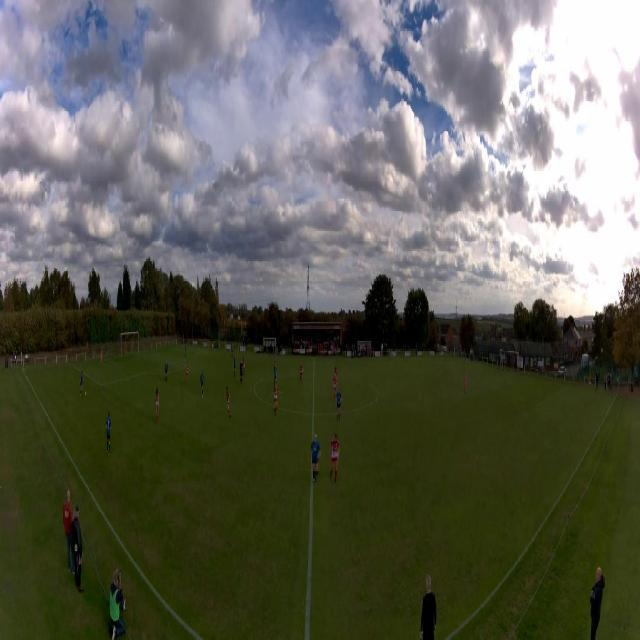ball: (85, 391, 87, 397)
player: (310, 433, 322, 483), (329, 431, 340, 482), (271, 384, 282, 416), (106, 410, 111, 457), (336, 387, 342, 422), (225, 386, 231, 418), (156, 387, 160, 425), (333, 373, 338, 401), (79, 370, 84, 398), (200, 370, 204, 399), (273, 363, 277, 388), (240, 361, 244, 386), (334, 367, 338, 391), (164, 360, 168, 382), (233, 355, 237, 376), (300, 364, 304, 384), (464, 371, 467, 393), (186, 362, 189, 384), (243, 356, 246, 377), (100, 349, 103, 365), (274, 354, 277, 366), (185, 342, 187, 358), (231, 349, 234, 359)
